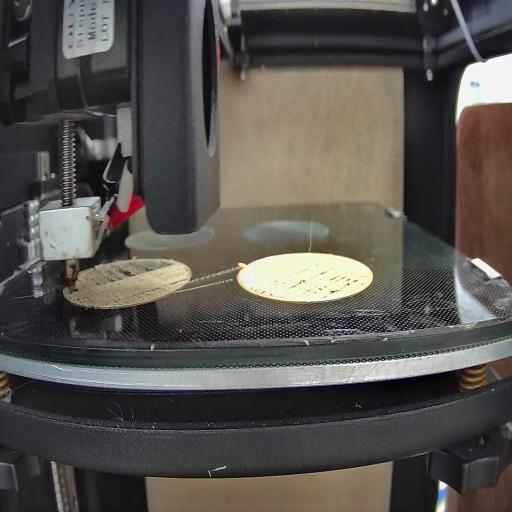under_extrusion: (248, 274, 363, 300), (88, 252, 166, 281)
